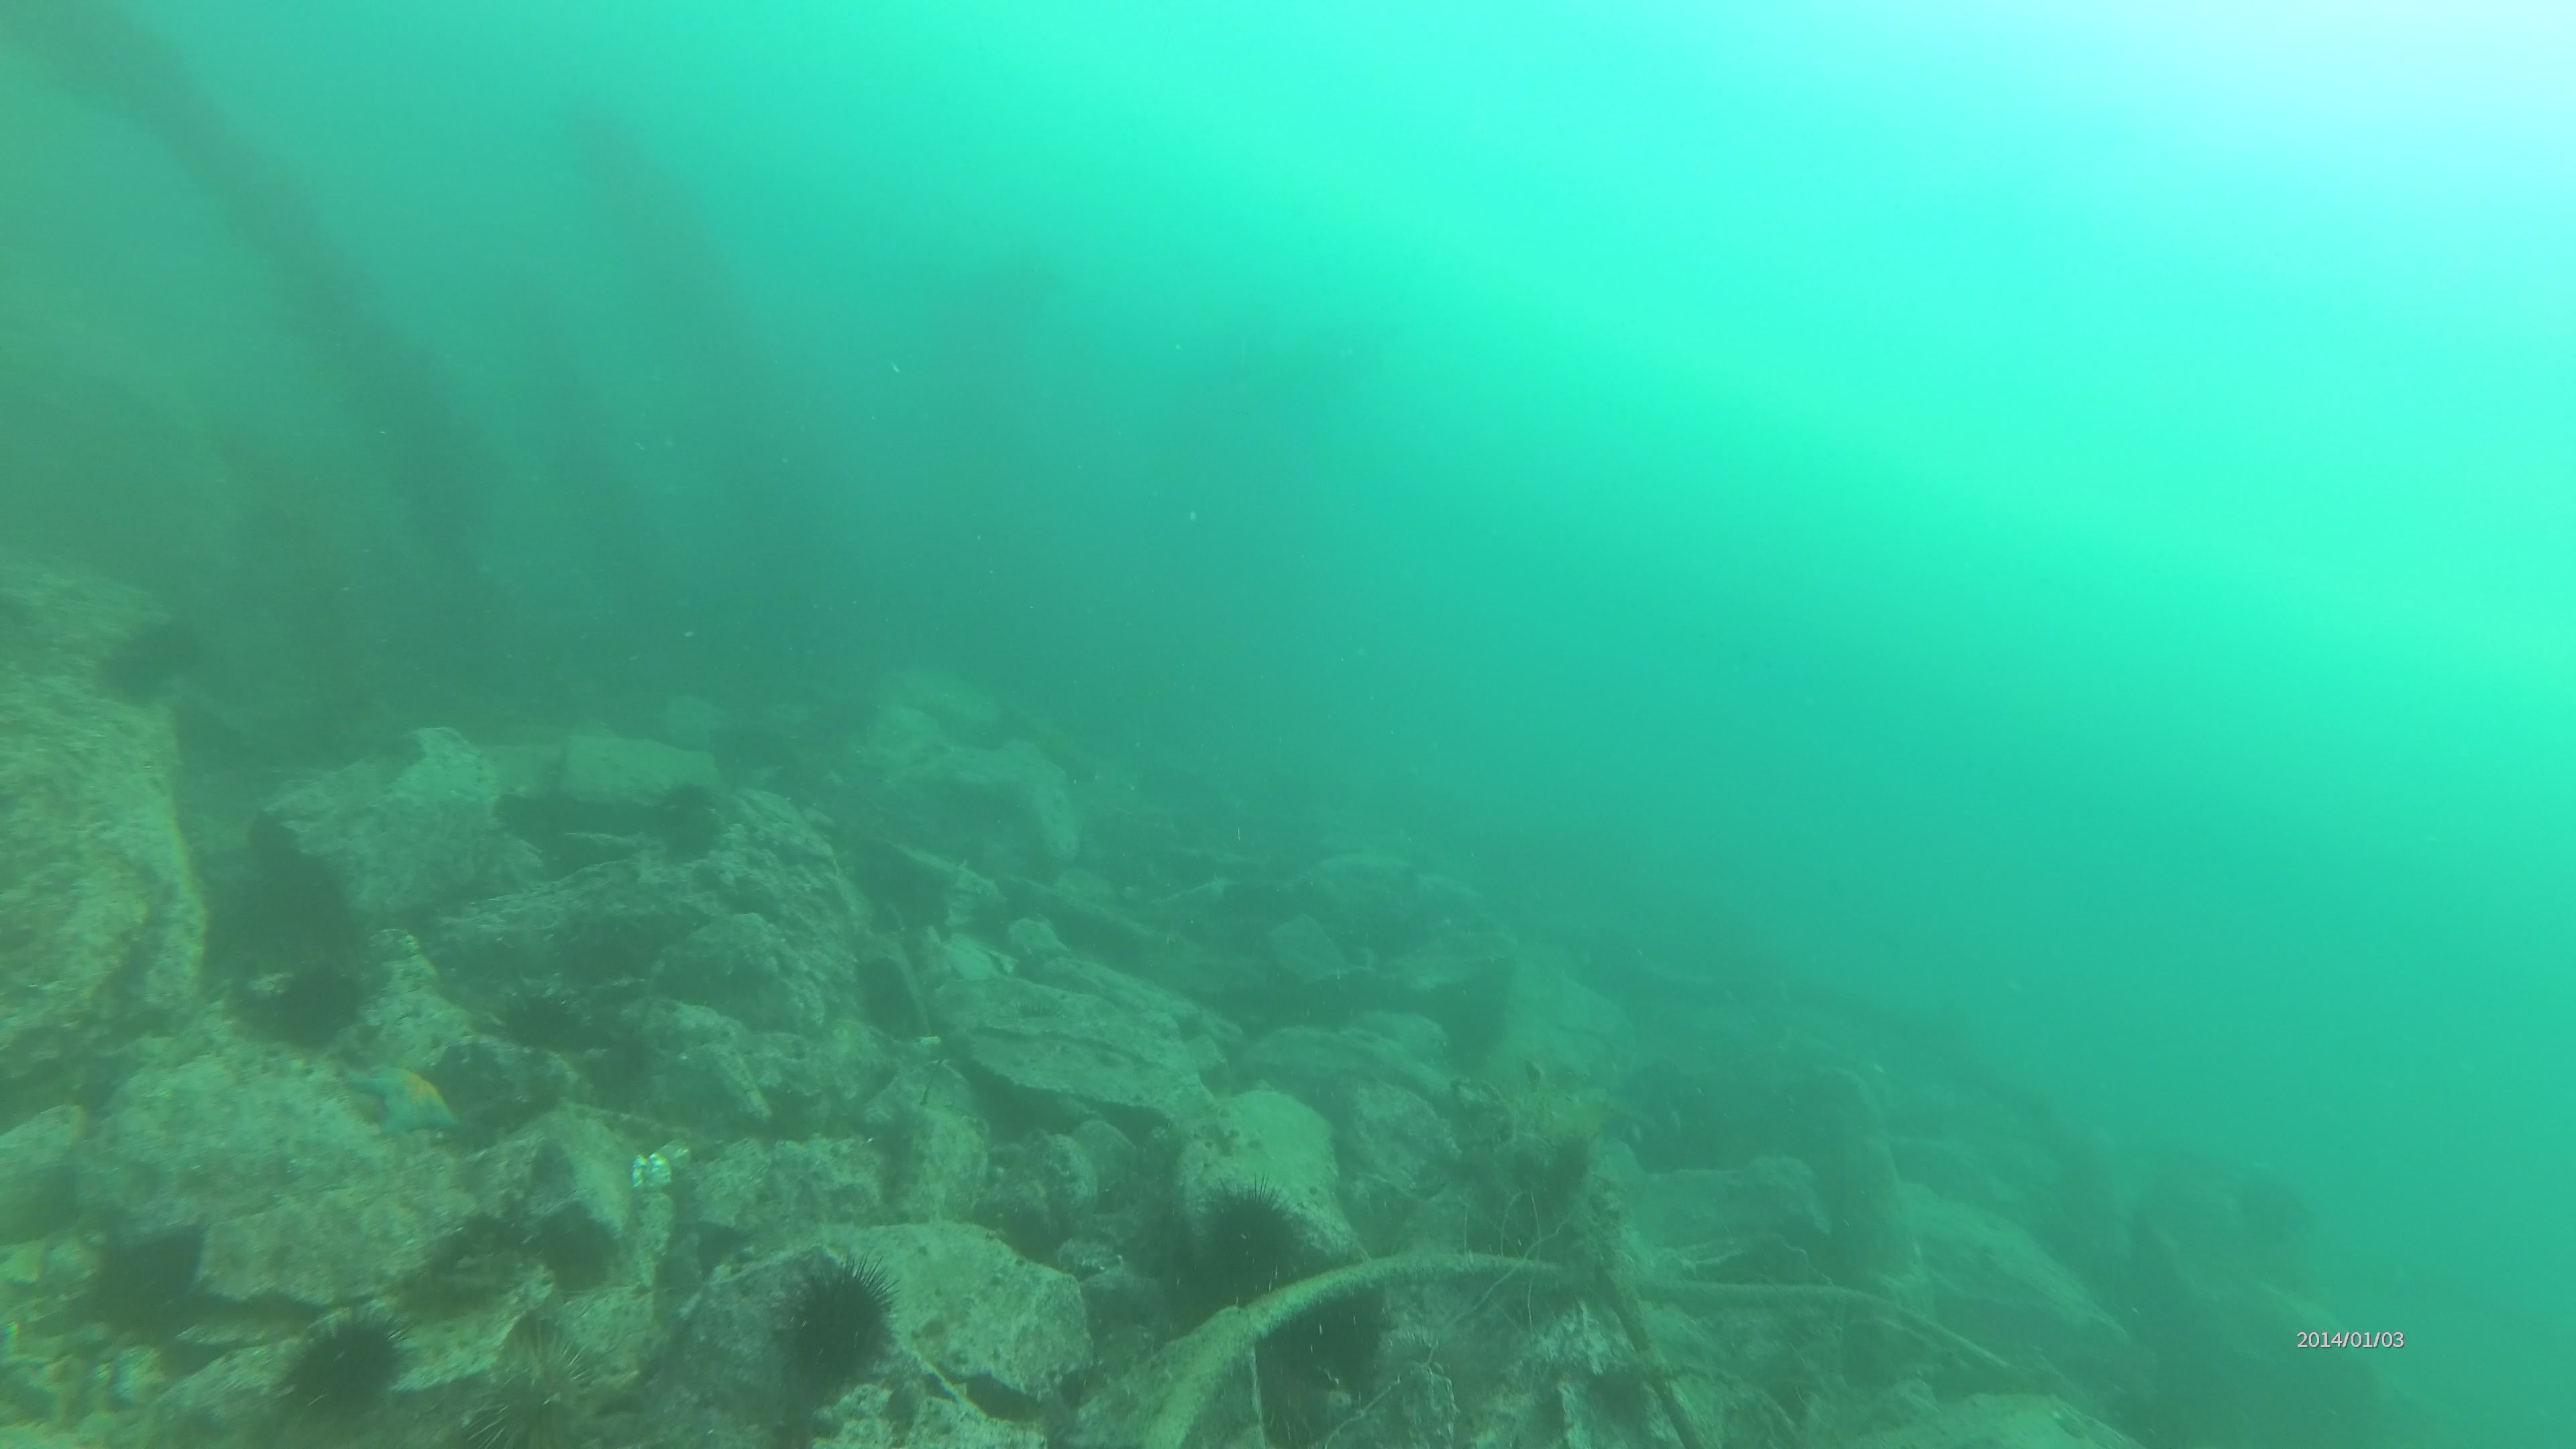echinus: (773, 1249, 908, 1405), (1191, 1180, 1311, 1322), (464, 1336, 612, 1449), (294, 1307, 405, 1408), (260, 957, 361, 1053), (658, 763, 732, 878), (506, 982, 591, 1056)
starfish: (343, 1053, 467, 1141)
